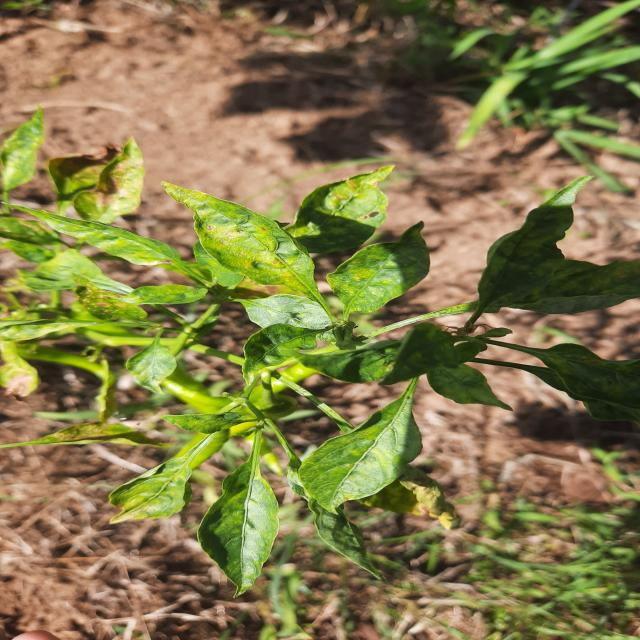virus_kuning: (102, 443, 210, 526)
